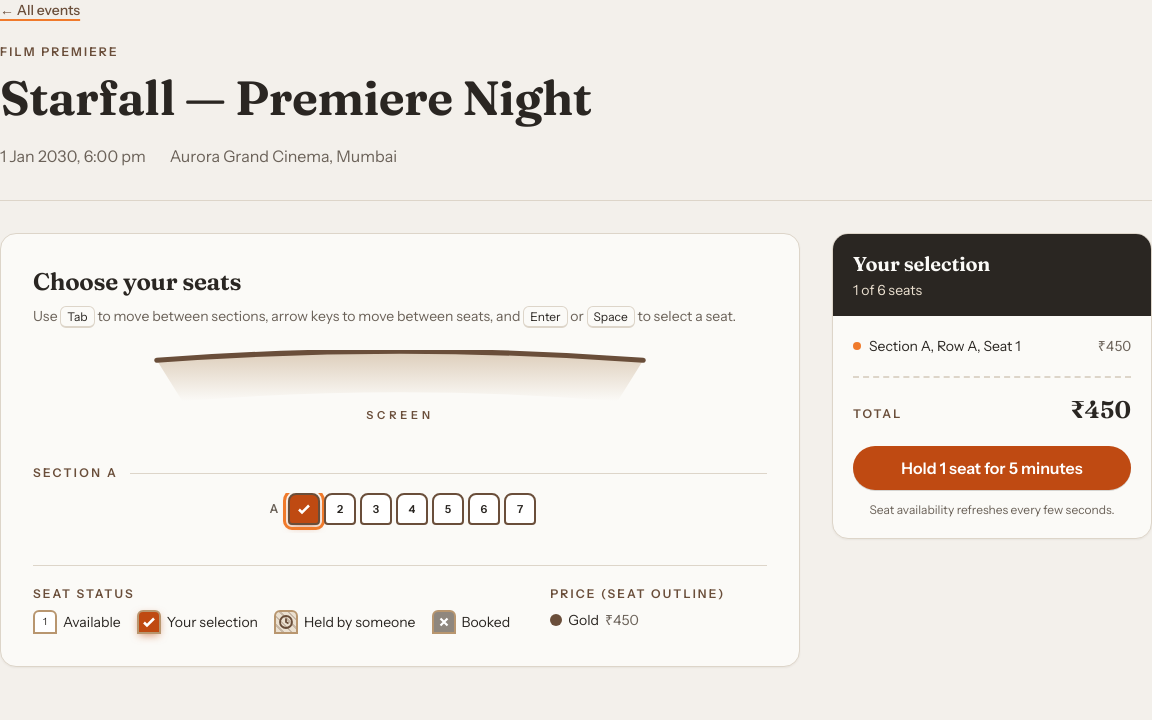
EventDetailPage › limits a selection to 6 seats
The width and height of the screenshot is (1152, 720).
Earlier steps of the test are not shown.
Click the button named "Section A, Row A, Seat 2, ₹450, available" at (340, 509), box [324,493,356,525]
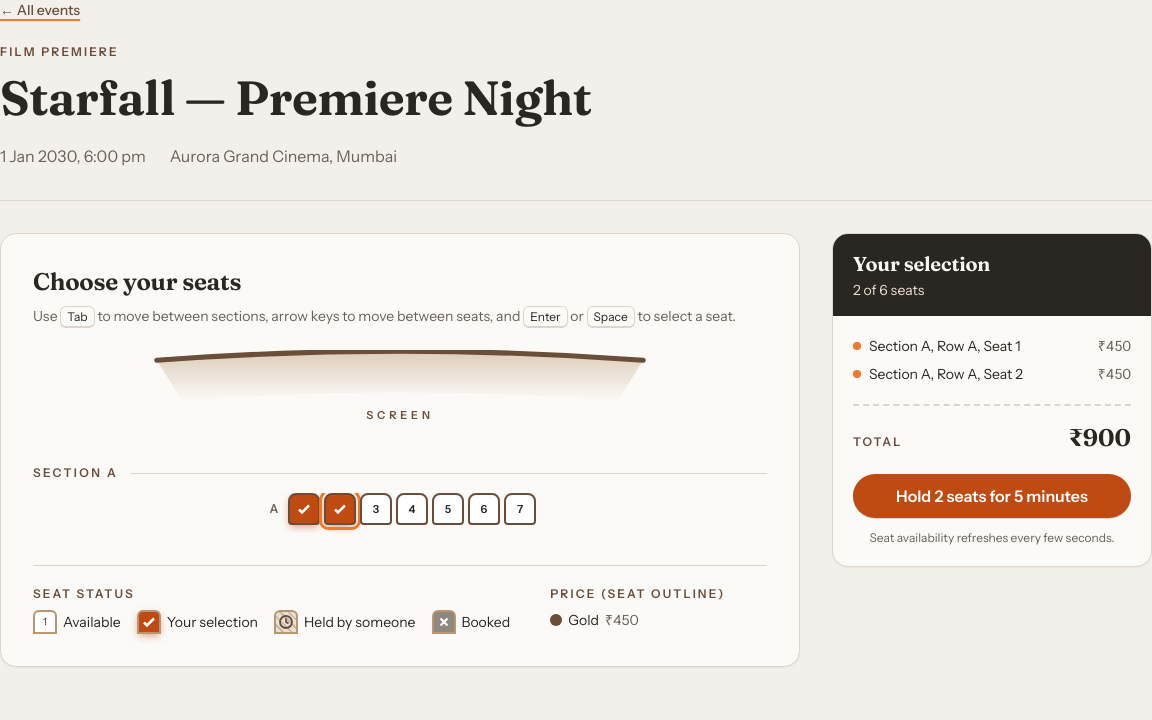
Click the button named "Section A, Row A, Seat 3, ₹450, available" at (376, 509), box [360,493,392,525]
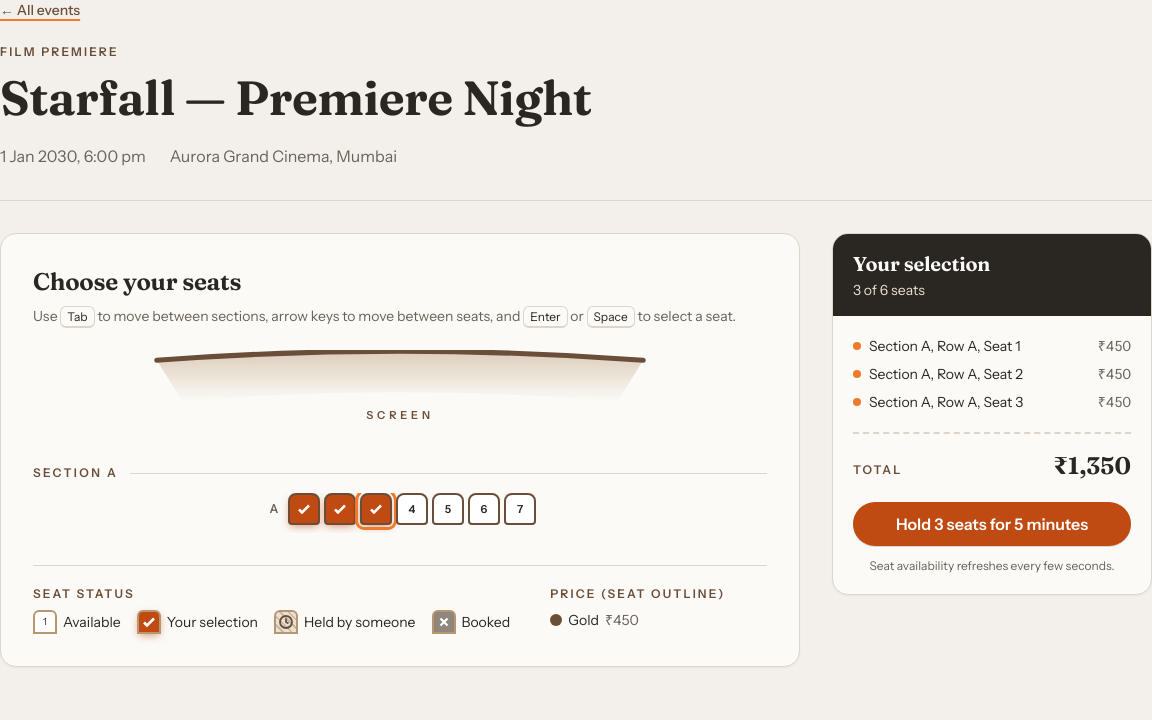
Click the button "4" at (412, 509), box [396,493,428,525]
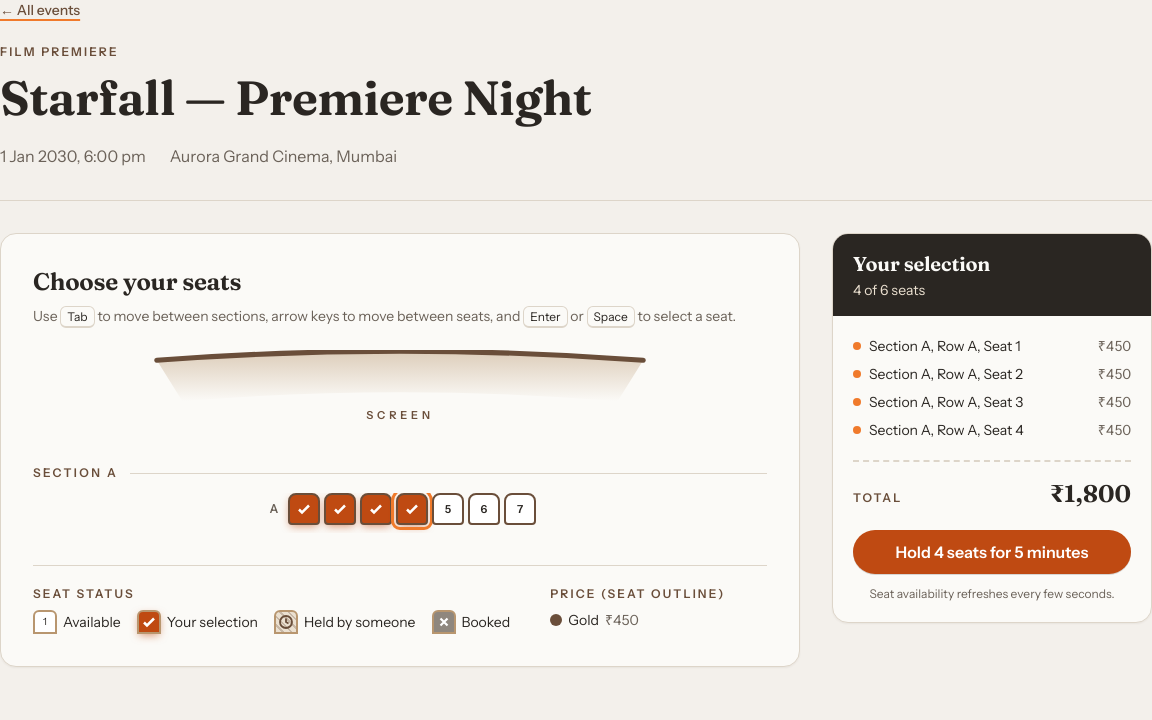
Click the button "5" at (448, 509), box [432,493,464,525]
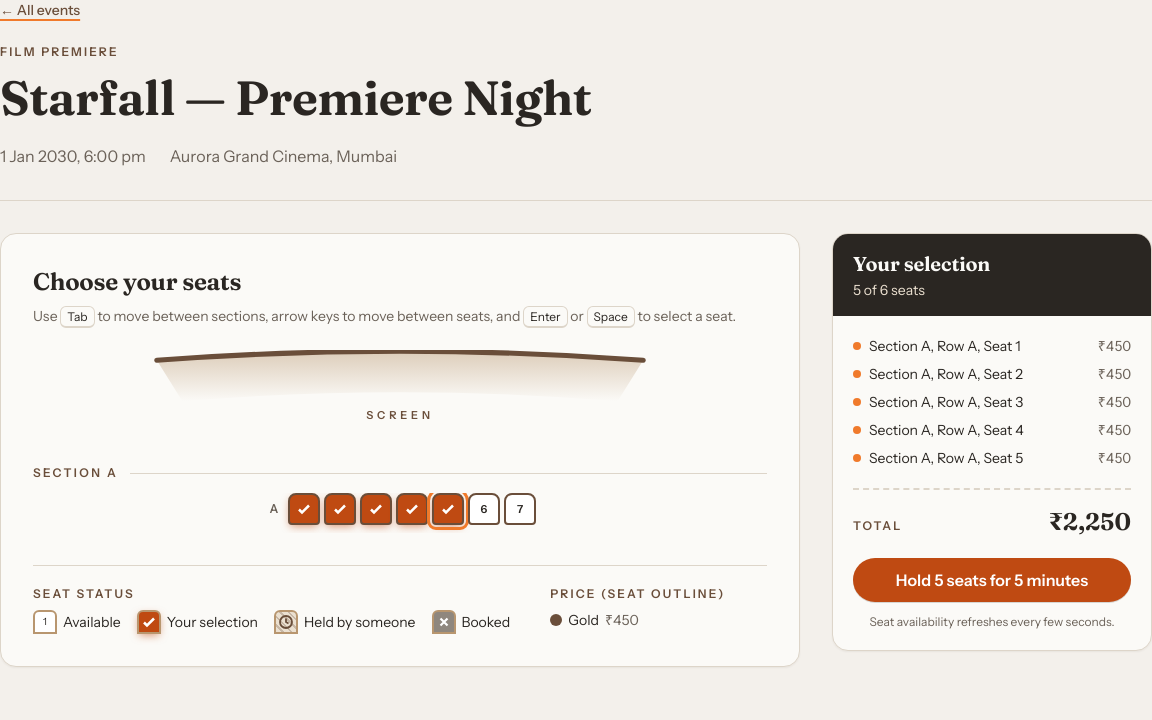
Click the button "6" at (484, 509), box [468,493,500,525]
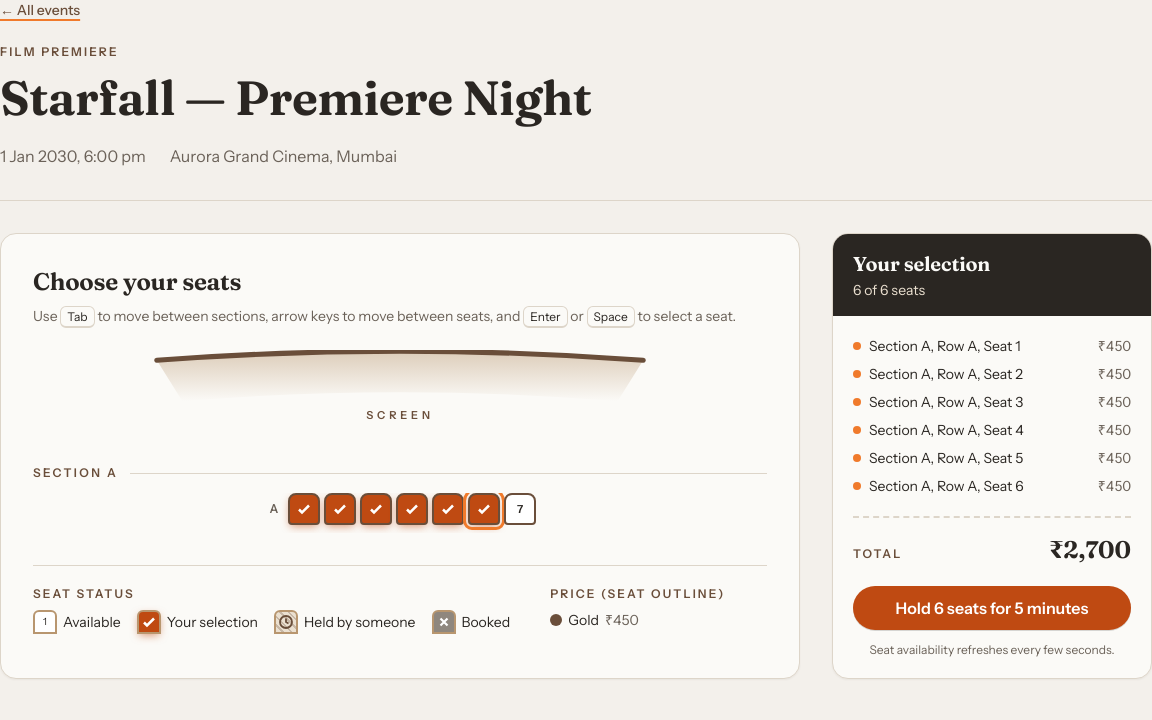
Click the button named "Section A, Row A, Seat 7, ₹450, available" at (520, 509), box [504,493,536,525]
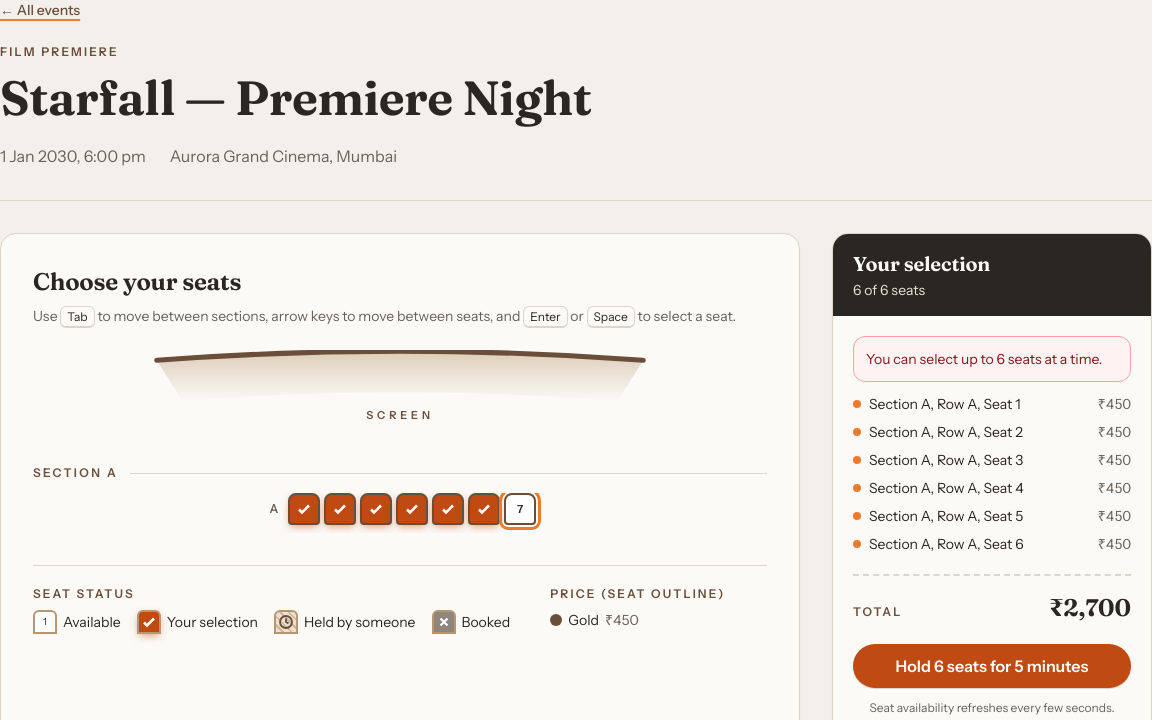
Check: the text "You can select up to 6 seats at a time." is shown, box [853,336,1131,382]
